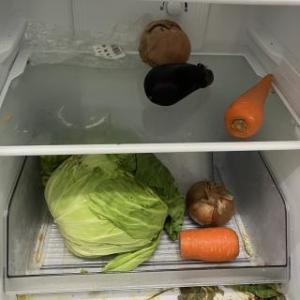cabbage: (37, 154, 188, 272)
carrot: (222, 72, 276, 140), (178, 226, 241, 266)
eggplant: (144, 61, 216, 109)
onion: (138, 19, 192, 68), (185, 178, 237, 228)
